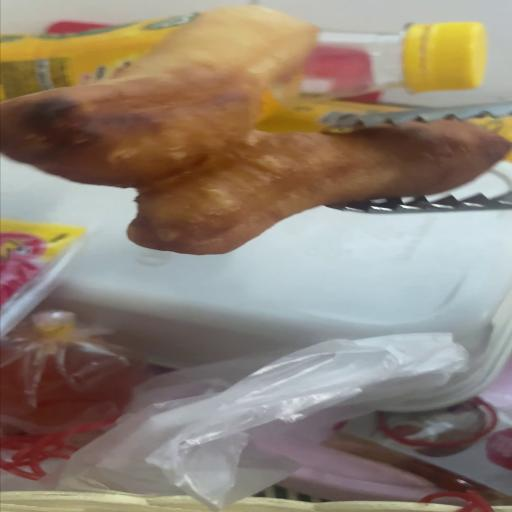street_burnt_good: (0, 4, 510, 253)
